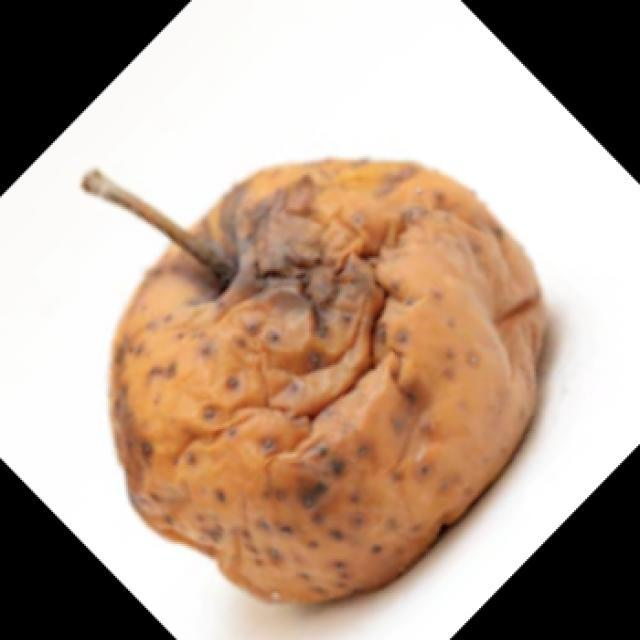Rotten: (106, 155, 552, 587)
